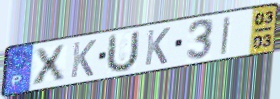3: (185, 18, 216, 63)
I: (219, 14, 233, 57)
K: (69, 38, 98, 80), (143, 26, 172, 67)
U: (104, 28, 141, 75)
X: (32, 43, 67, 87)
